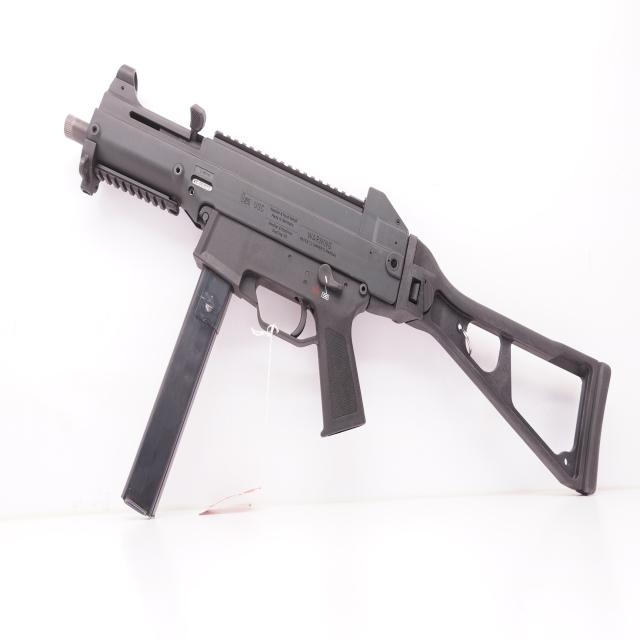SMG: (63, 65, 614, 520)
